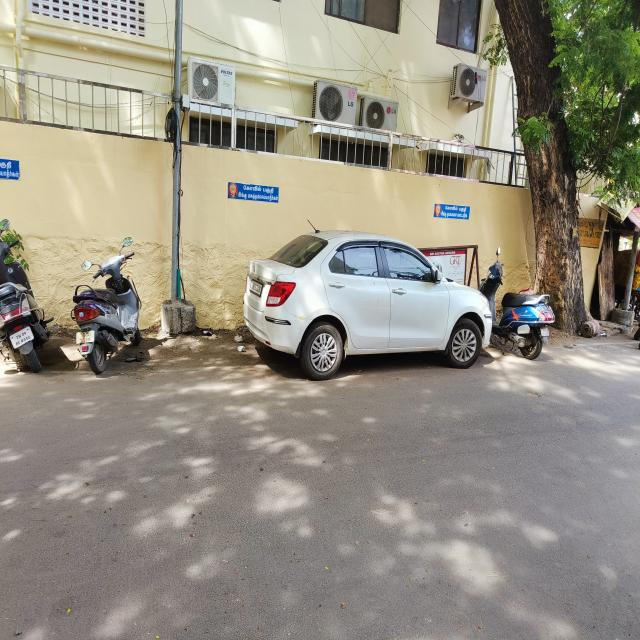scratch: (292, 316, 304, 323), (390, 339, 409, 343), (376, 298, 380, 310), (373, 341, 389, 344), (272, 333, 276, 338), (403, 284, 405, 288), (266, 266, 270, 267), (466, 294, 467, 297), (430, 287, 431, 290)
